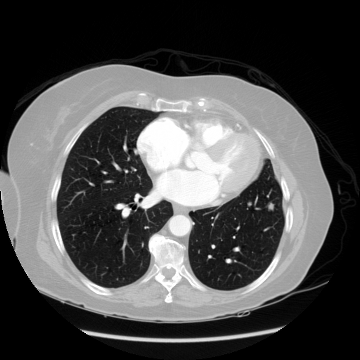nodule: (267, 202, 275, 210)
